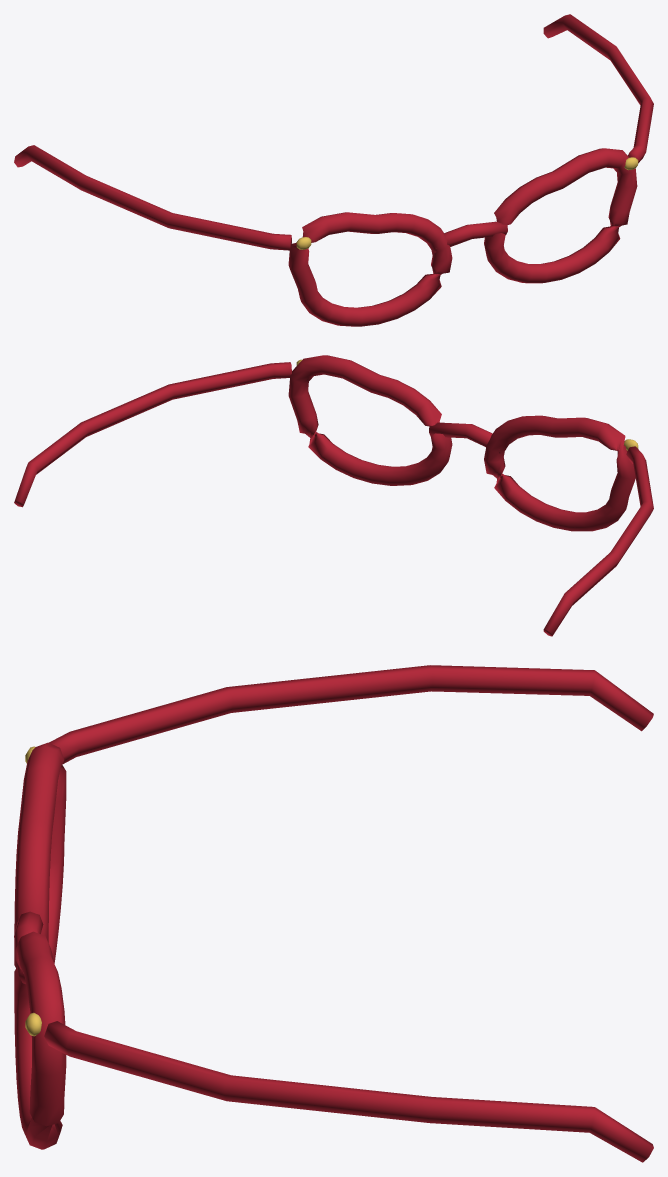
File: gafas_gato.glb
3 views of the same model, one above another, from view 1: azimuth 30°, elevation 25°; view 2: azimuth 150°, elevation 25°; view 3: azimuth 270°, elevation 25° (orthographic). The views are drawn at different scales.
Visible parts, largest first — view 1: gafas_gato; view 2: gafas_gato; view 3: gafas_gato.
Part boxes in pixels (<box>): gafas_gato: <box>14,14,653,326</box>; gafas_gato: <box>14,355,653,636</box>; gafas_gato: <box>14,665,653,1162</box>.
Bounding box in the file's own units: 1.05 × 0.2152 × 0.6341.
